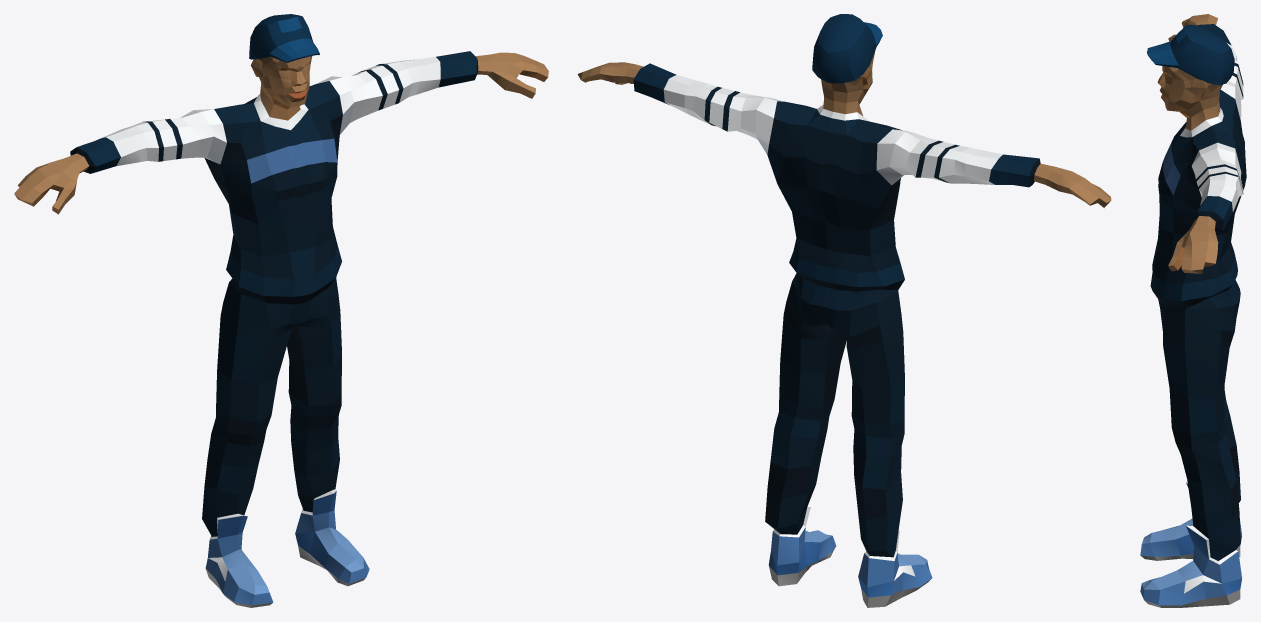
The model's file is casual_Male_H-model.obj.
3 renders of one model, left to right at view 1: azimuth 30°, elevation 25°; view 2: azimuth 150°, elevation 25°; view 3: azimuth 270°, elevation 25°, orthographic. The views are drawn at different scales.
Parts seen in each view (by area): view 1: casual_Male_H, acc_cap_dblue; view 2: casual_Male_H, acc_cap_dblue; view 3: casual_Male_H, acc_cap_dblue.
Boxes of the visible parts, x1,y1,x2,y2 form: casual_Male_H: [14, 51, 548, 607]; acc_cap_dblue: [249, 14, 319, 62]; casual_Male_H: [577, 51, 1111, 607]; acc_cap_dblue: [812, 14, 882, 83]; casual_Male_H: [1140, 14, 1246, 607]; acc_cap_dblue: [1147, 24, 1234, 85].
Size of the model in its own units: 168 by 170 by 29.9.
